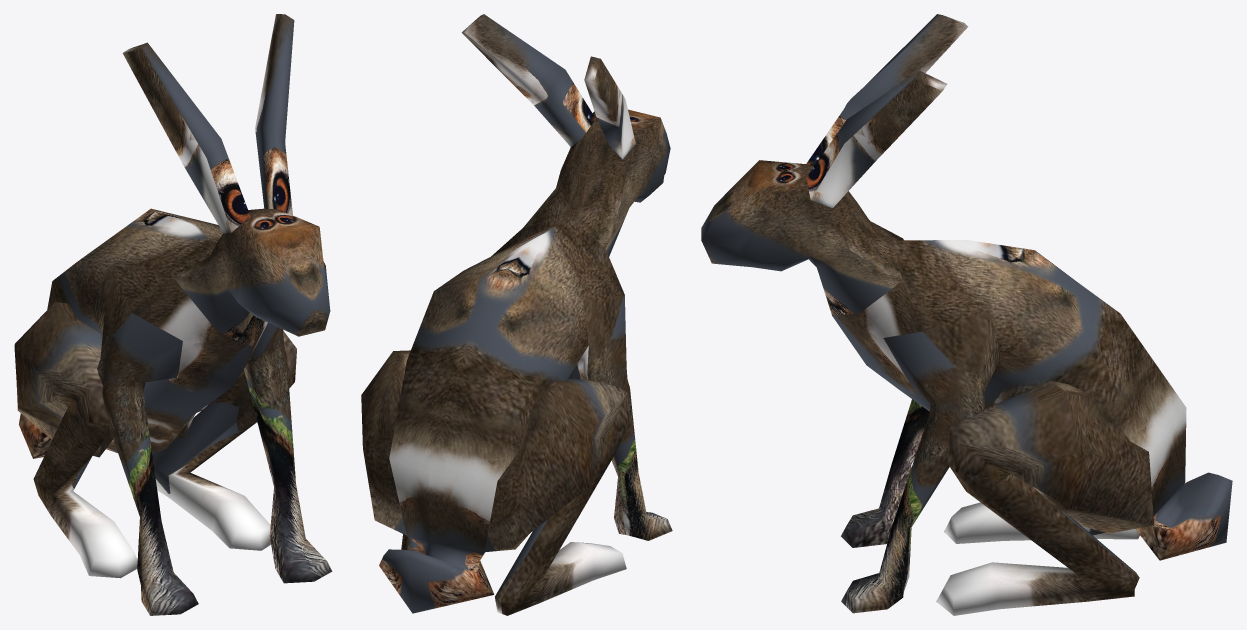
File: liebre6.gltf
3 views of the same model, side by side, from view 1: azimuth 30°, elevation 25°; view 2: azimuth 150°, elevation 25°; view 3: azimuth 270°, elevation 25° (orthographic). The views are drawn at different scales.
Bounding box in the file's own units: 4.86 × 10.47 × 9.3.
1 material, 1 textured.
